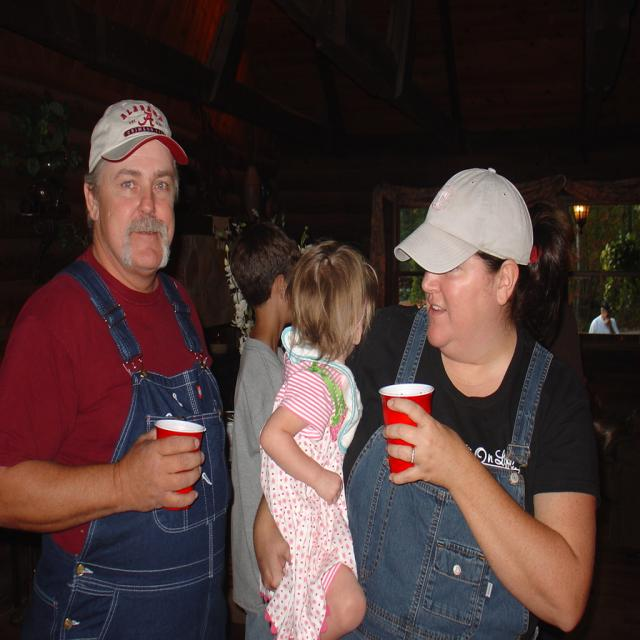Hat: (394, 163, 539, 275), (90, 98, 190, 172)
